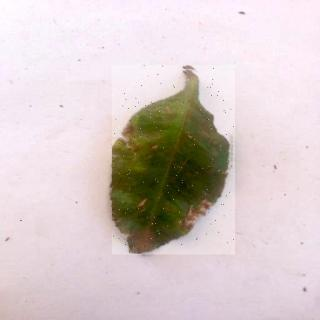Brown Blight: (113, 67, 236, 257)
